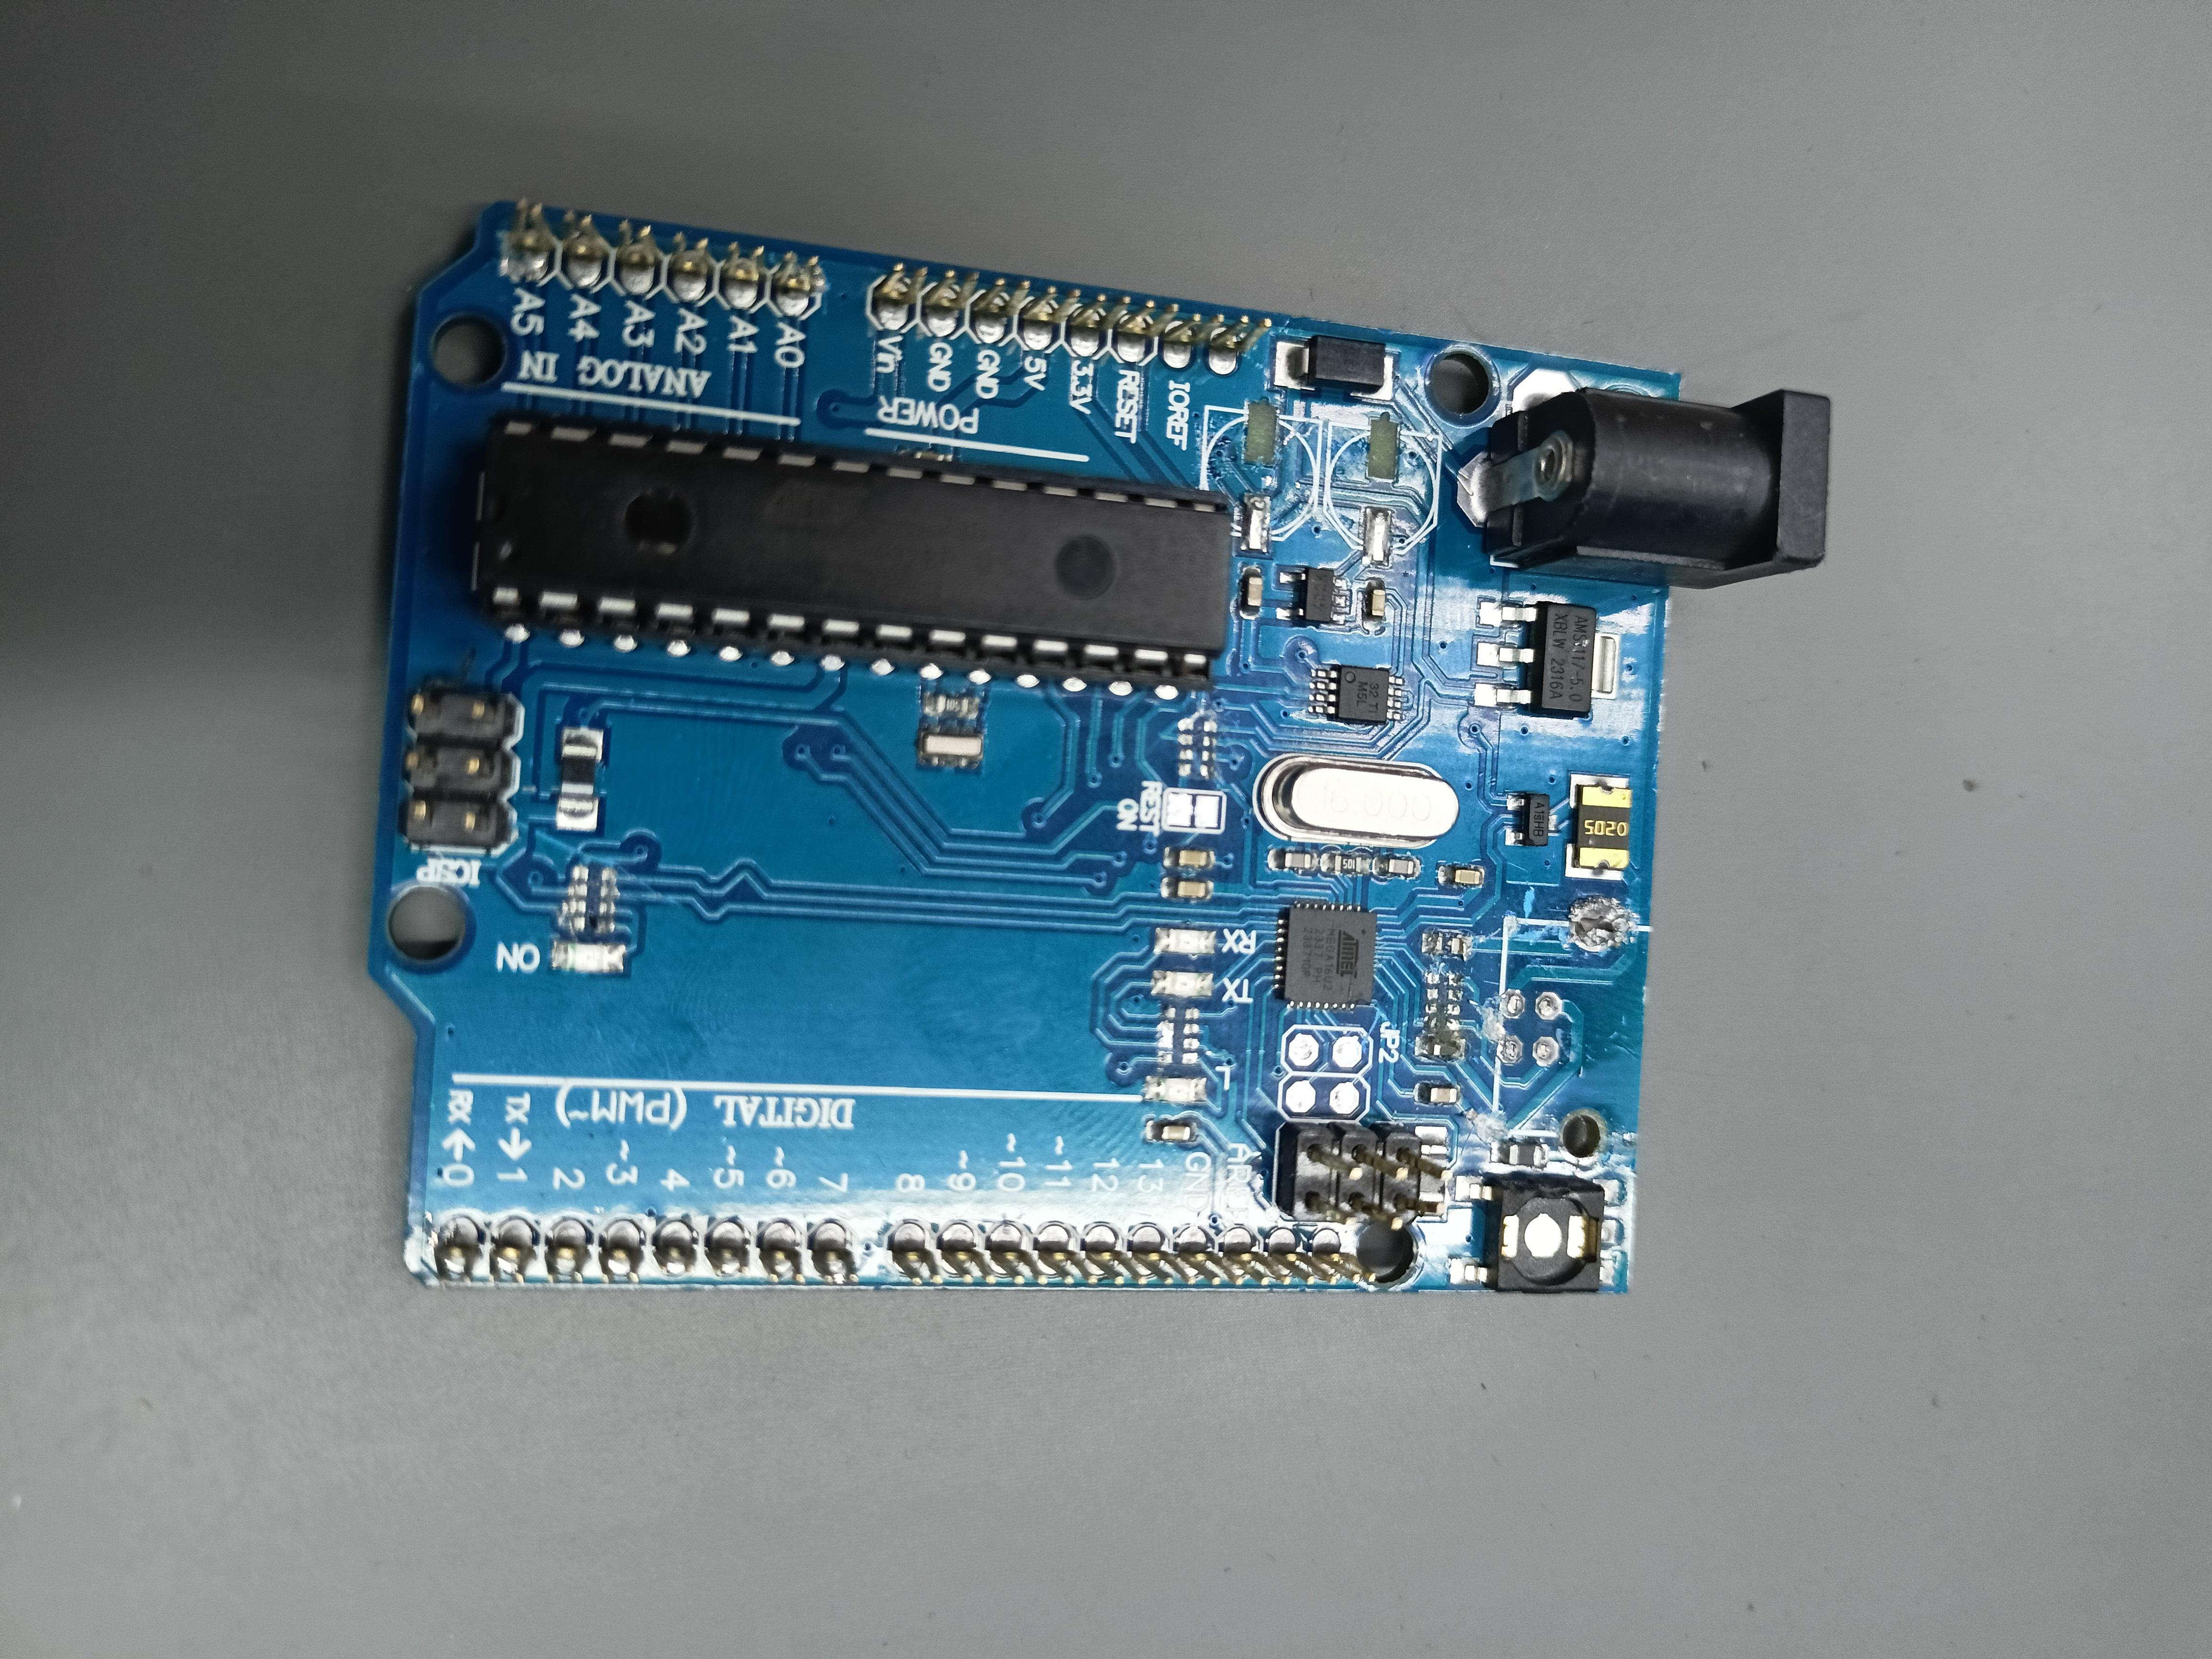ATmega328 chip: (477, 410, 1235, 690)
Arduino board: (368, 199, 1831, 1293)
